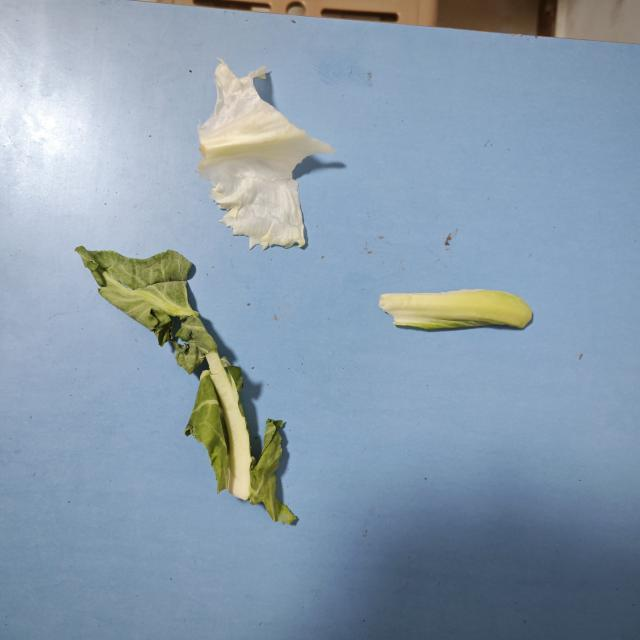-Kitchen waste - vegetable roots and leaves-: (76, 246, 294, 527), (196, 57, 336, 249), (380, 287, 532, 339)
